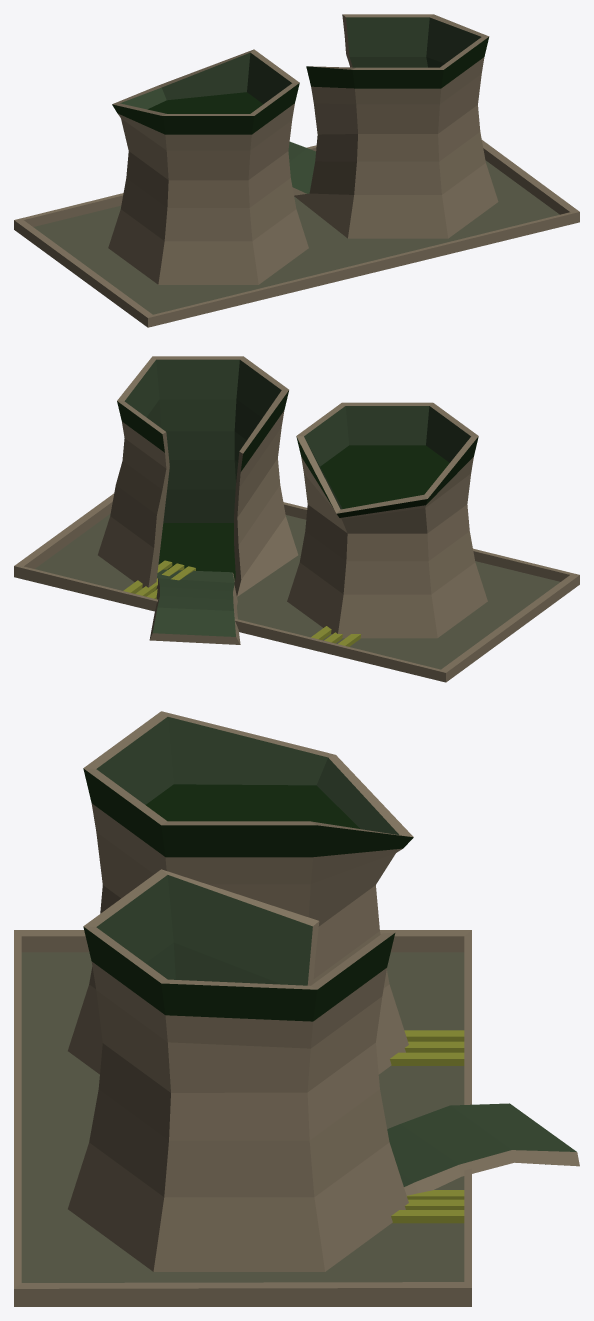
File: DmgNuke Plant.fbx
3 renders of one model, top to bottom at view 1: azimuth 30°, elevation 25°; view 2: azimuth 150°, elevation 25°; view 3: azimuth 270°, elevation 25°, orthographic. The views are drawn at different scales.
Parts seen in each view (by area): view 1: Nuke waste tubes, Plane, Nuke waste tubes.001; view 2: Nuke waste tubes, Plane, Nuke waste tubes.001, Pipes; view 3: Nuke waste tubes, Plane, Nuke waste tubes.001, Pipes.
Part boxes in pixels (bbox=[...]): Nuke waste tubes: bbox=[108, 14, 498, 284]; Plane: bbox=[14, 140, 579, 327]; Nuke waste tubes.001: bbox=[288, 141, 315, 195]; Nuke waste tubes: bbox=[98, 356, 487, 646]; Plane: bbox=[14, 493, 579, 682]; Nuke waste tubes.001: bbox=[149, 569, 240, 644]; Pipes: bbox=[123, 560, 195, 599]; Nuke waste tubes: bbox=[68, 711, 464, 1271]; Plane: bbox=[14, 930, 471, 1306]; Nuke waste tubes.001: bbox=[387, 1103, 579, 1195]; Pipes: bbox=[391, 1190, 464, 1223].
Size of the model in its own units: 1034 by 403 by 686.
